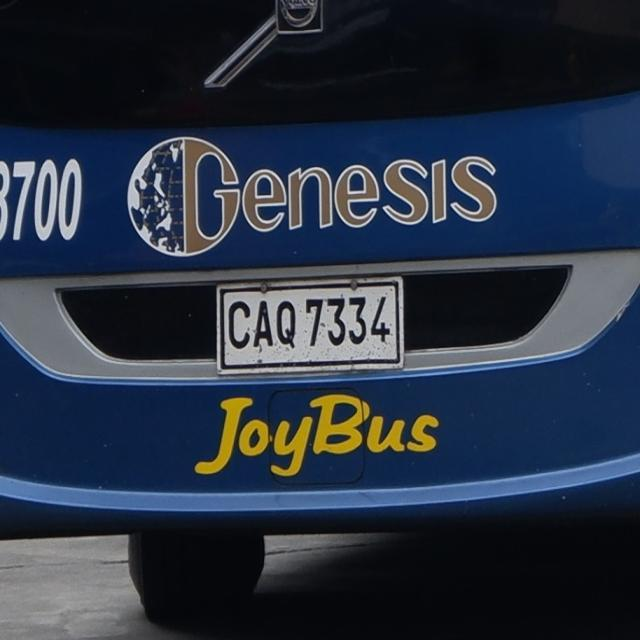LicensePlate: (210, 273, 409, 374)
